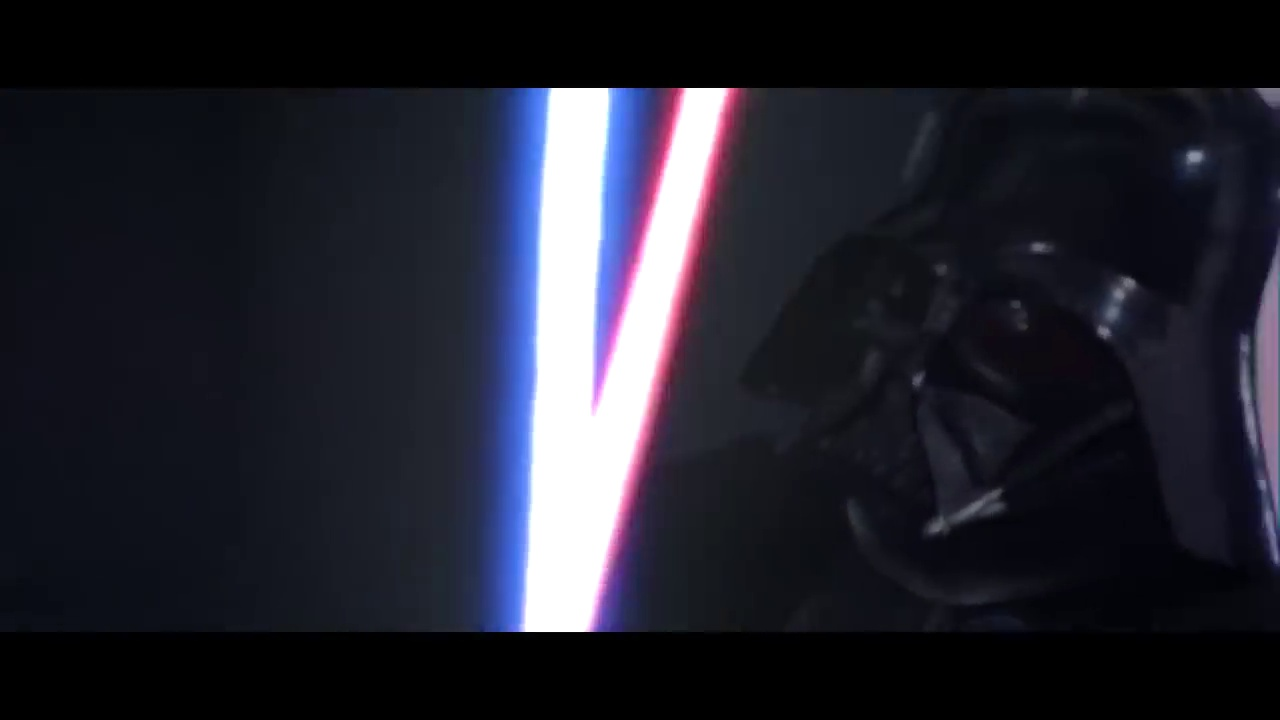lightsaber: (490, 84, 747, 631)
